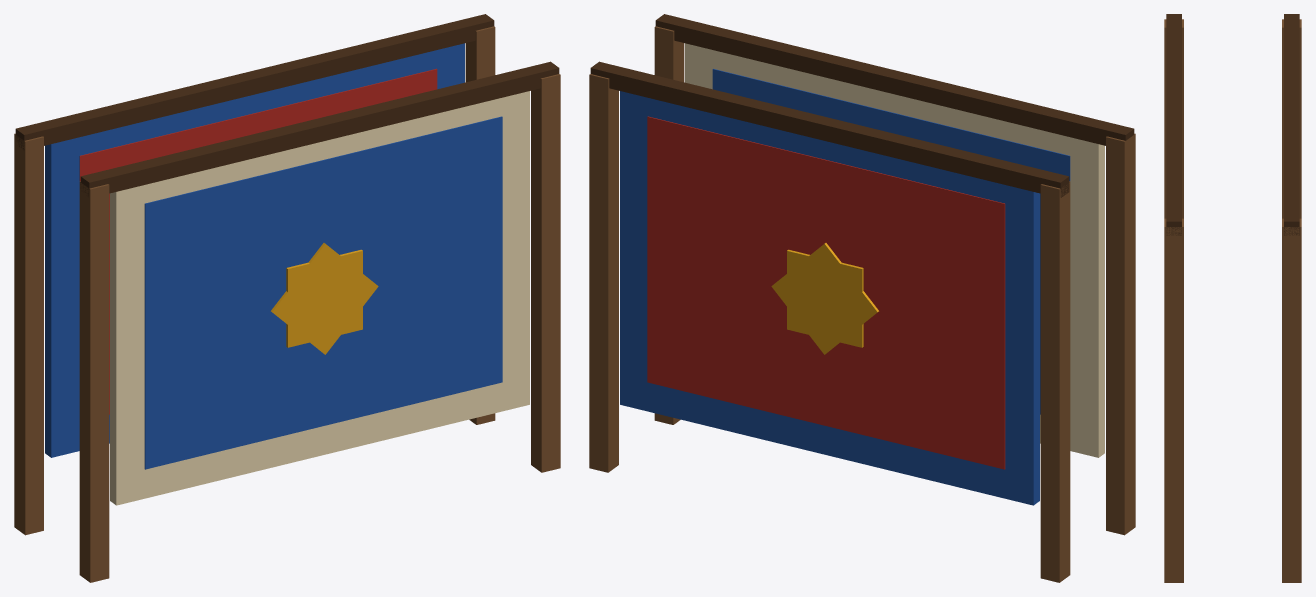
Rendered from dc_rug_rack.glb.
The picture shows the model from 3 angles, left to right: view 1: azimuth 30°, elevation 25°; view 2: azimuth 150°, elevation 25°; view 3: azimuth 270°, elevation 25°; orthographic projection. The views are drawn at different scales.
Parts seen in each view (by area): view 1: dc_rug_rack; view 2: dc_rug_rack; view 3: dc_rug_rack.
Part boxes in pixels (x1,y1,x2,y2): dc_rug_rack: [14, 14, 560, 582]; dc_rug_rack: [589, 14, 1135, 582]; dc_rug_rack: [1164, 14, 1301, 582].
Bounding box in the file's own units: 2.5 × 2.03 × 0.7.
